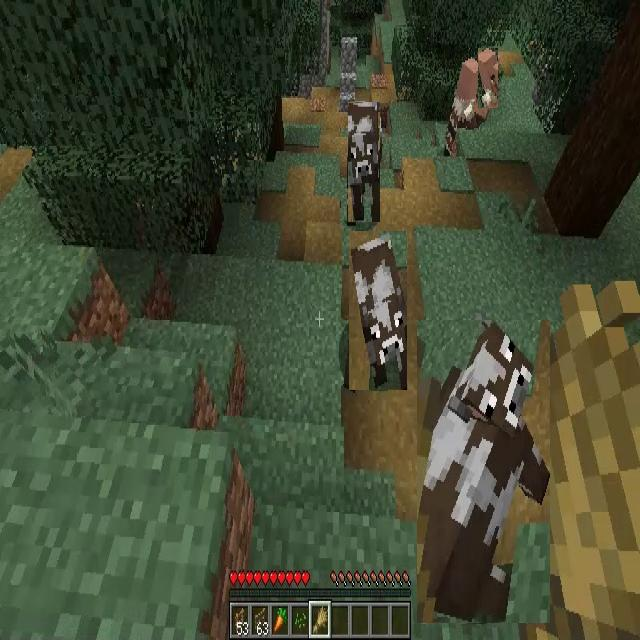cow: (417, 320, 550, 623), (350, 231, 408, 390), (348, 102, 380, 222)
people: (444, 56, 484, 157), (478, 48, 498, 108)
